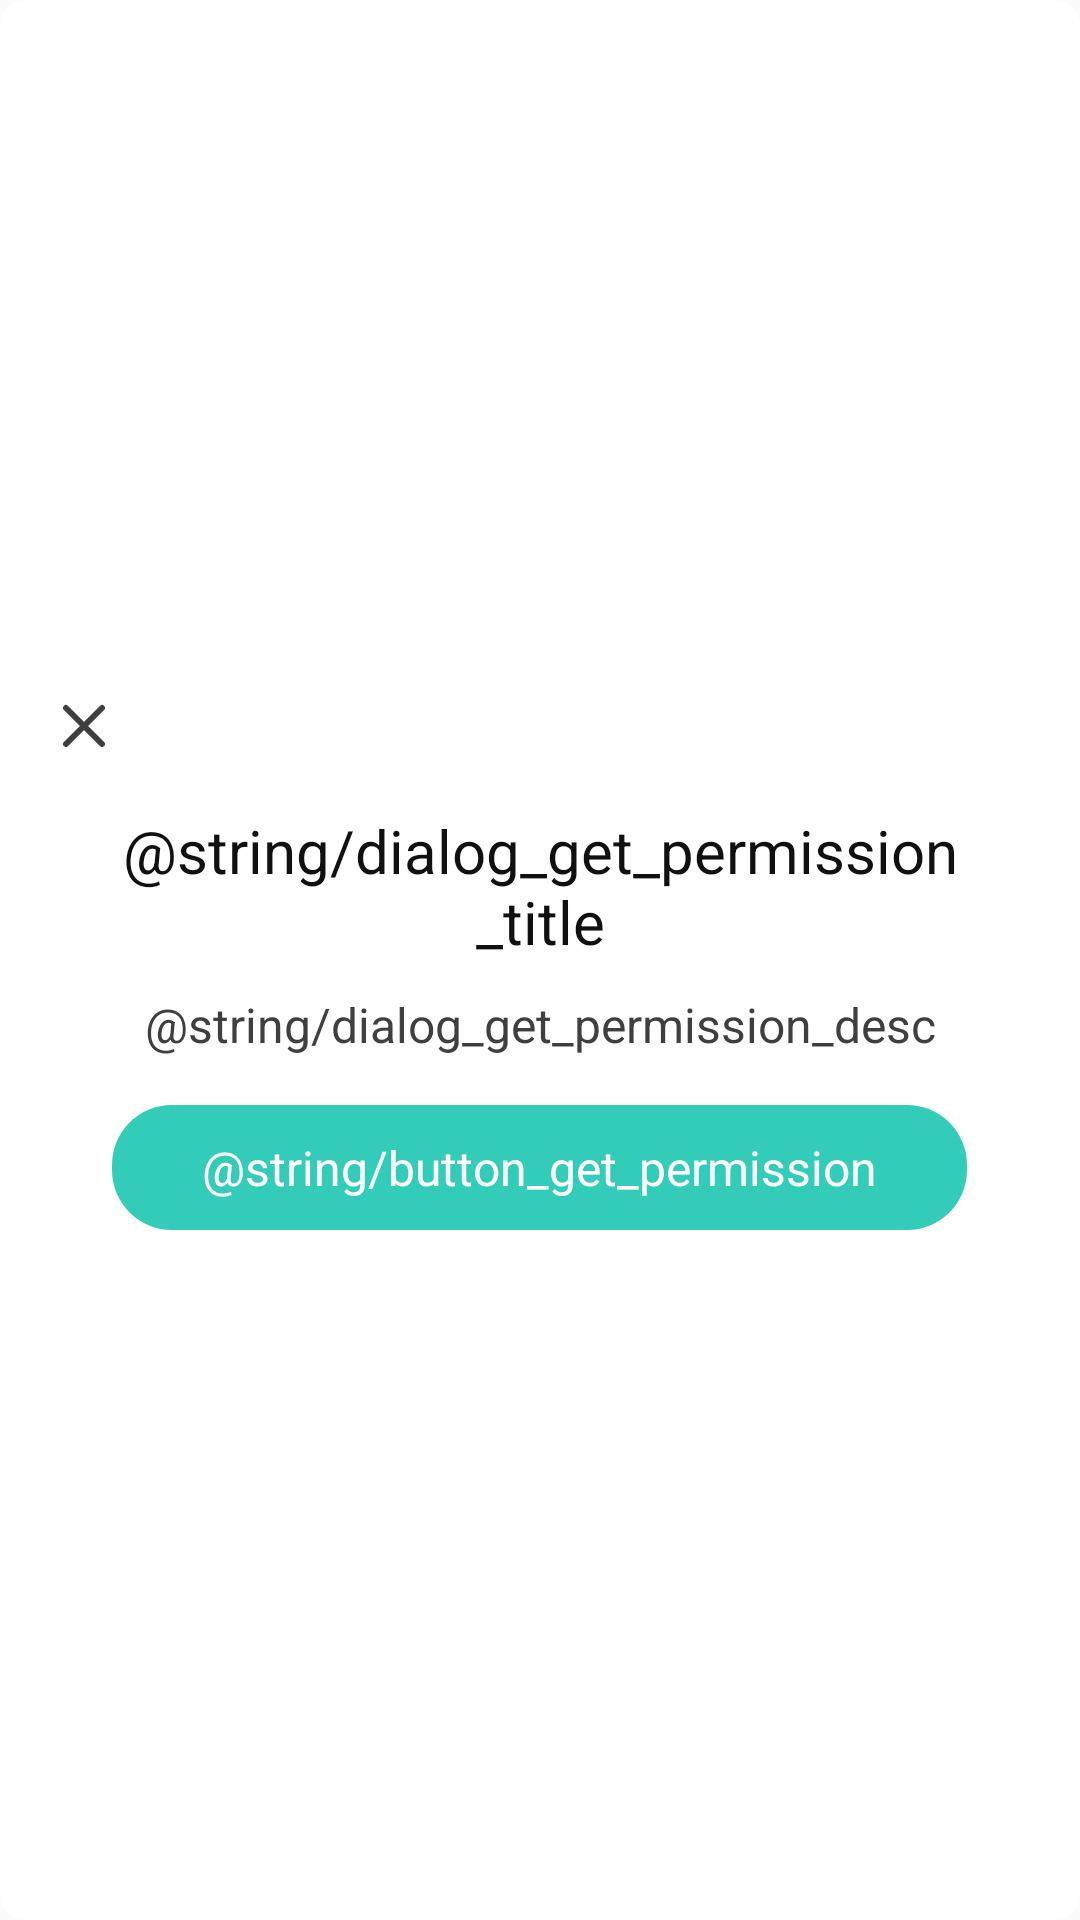

Where icons sit on this 1080px x 1920px app screen, as region(x1, y1, x2, y2):
cancel: region(63, 704, 105, 747)
